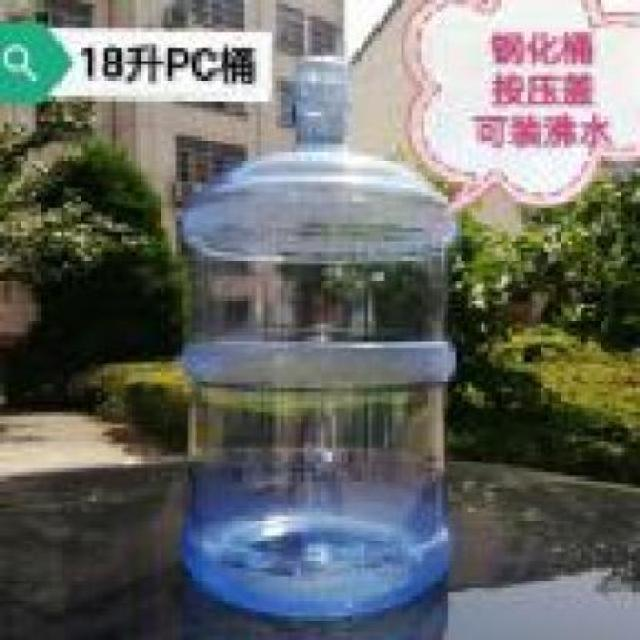coolerbottle: (173, 56, 464, 624)
